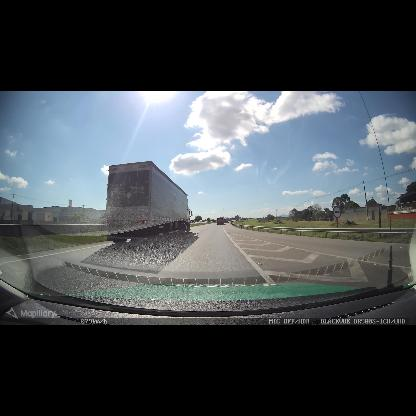R-24a: (333, 206, 341, 218)
